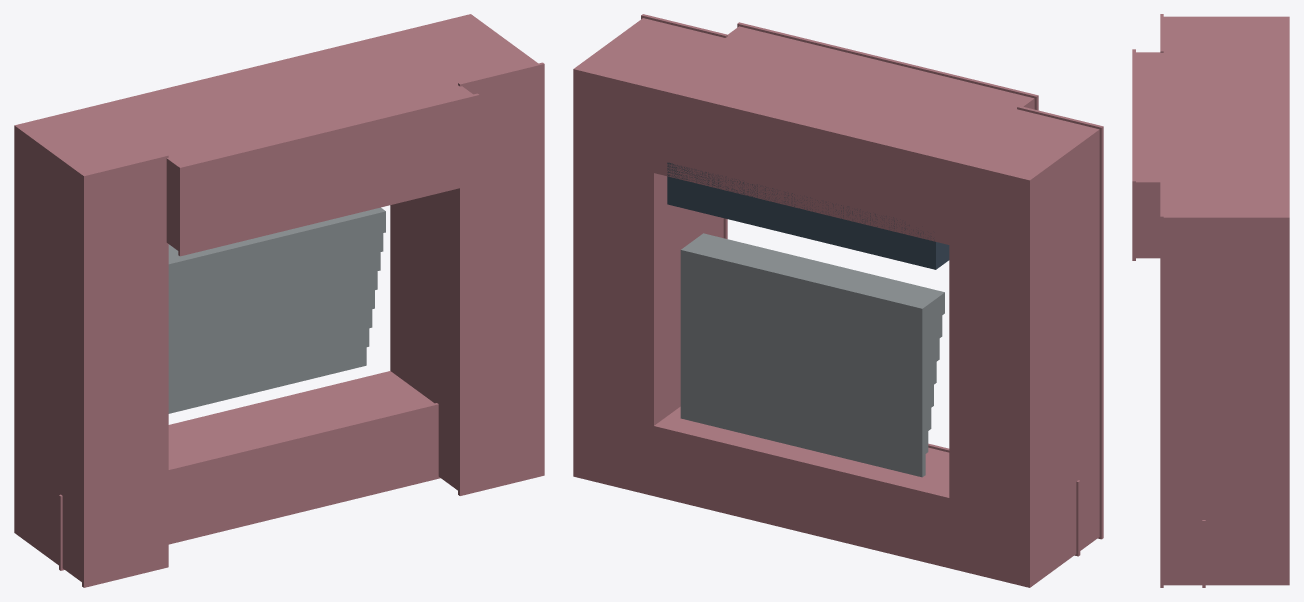
The model's file is modelo.obj.
3 views of the same model, side by side, from view 1: azimuth 30°, elevation 25°; view 2: azimuth 150°, elevation 25°; view 3: azimuth 270°, elevation 25° (orthographic). The views are drawn at different scales.
Visible parts, largest first — view 1: ala_izquierda_cornisa_1, ala_derecha_cornisa_3, ala_izquierda_0, escenario_cornisa_5, escenario_4, acceso_cornisa_7, ala_derecha_2, acceso_6, grada_15, grada_14, grada_13, grada_12 (+4 smaller); view 2: ala_izquierda_0, escenario_4, ala_derecha_2, acceso_6, grada_15, plataforma_16, grada_14, grada_13, grada_12, grada_11, grada_10, grada_9 (+3 smaller); view 3: ala_derecha_2, escenario_4, ala_izquierda_0, ala_derecha_cornisa_3, escenario_cornisa_5, acceso_6, acceso_cornisa_7.
Boxes of the visible parts, <box> form: ala_izquierda_cornisa_1: <box>82,154,168,587</box>; ala_derecha_cornisa_3: <box>458,62,544,495</box>; ala_izquierda_0: <box>14,106,161,581</box>; escenario_cornisa_5: <box>178,93,479,256</box>; escenario_4: <box>95,33,472,250</box>; acceso_cornisa_7: <box>59,403,440,570</box>; ala_derecha_2: <box>390,14,537,490</box>; acceso_6: <box>14,371,434,565</box>; grada_15: <box>168,207,385,285</box>; grada_14: <box>168,233,383,303</box>; grada_13: <box>168,252,380,321</box>; grada_12: <box>168,271,377,340</box>; ala_izquierda_0: <box>949,110,1099,587</box>; escenario_4: <box>654,26,1034,244</box>; ala_derecha_2: <box>573,18,723,495</box>; acceso_6: <box>573,406,1076,587</box>; grada_15: <box>680,233,944,329</box>; plataforma_16: <box>667,162,949,269</box>; grada_14: <box>680,271,942,350</box>; grada_13: <box>680,292,939,371</box>; grada_12: <box>680,313,936,392</box>; grada_11: <box>680,334,933,413</box>; grada_10: <box>680,355,931,435</box>; grada_9: <box>680,376,928,456</box>; ala_derecha_2: <box>1163,182,1289,585</box>; escenario_4: <box>1136,52,1289,258</box>; ala_izquierda_0: <box>1163,16,1289,52</box>; ala_derecha_cornisa_3: <box>1160,179,1163,587</box>; escenario_cornisa_5: <box>1132,49,1135,260</box>; acceso_6: <box>1205,523,1289,585</box>; acceso_cornisa_7: <box>1202,520,1205,587</box>.
Size of the model in its own units: 34.3 by 29.3 by 11.25.
